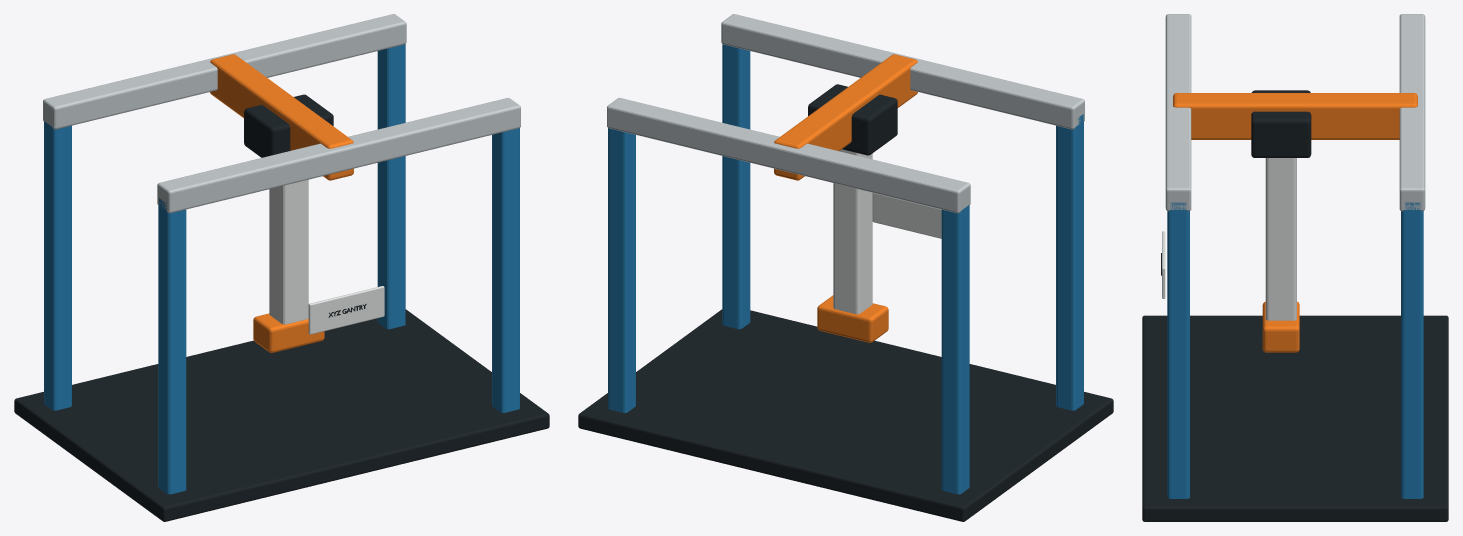
The model's file is xy_gantry.glb.
3 views of the same model, side by side, from view 1: azimuth 30°, elevation 25°; view 2: azimuth 150°, elevation 25°; view 3: azimuth 270°, elevation 25° (orthographic). The views are drawn at different scales.
Visible parts, largest first — view 1: BASE, X_RAIL_-0.82, X_RAIL_0.82, GANTRY_POST_-1.38_-0.82, GANTRY_POST_-1.38_0.82, GANTRY_POST_1.38_-0.82, GANTRY_POST_1.38_0.82, KIN_Z_AXIS, KIN_X_BRIDGE, NAMEPLATE, KIN_Y_CARRIAGE, GANTRY_GRIPPER; view 2: BASE, X_RAIL_0.82, X_RAIL_-0.82, GANTRY_POST_-1.38_0.82, GANTRY_POST_-1.38_-0.82, GANTRY_POST_1.38_0.82, GANTRY_POST_1.38_-0.82, KIN_X_BRIDGE, KIN_Z_AXIS, KIN_Y_CARRIAGE, GANTRY_GRIPPER, NAMEPLATE; view 3: BASE, KIN_X_BRIDGE, GANTRY_POST_1.38_-0.82, GANTRY_POST_1.38_0.82, KIN_Z_AXIS, X_RAIL_0.82, X_RAIL_-0.82, KIN_Y_CARRIAGE, GANTRY_GRIPPER.
Part boxes in pixels (x1=…): BASE: x1=14, y1=309, x2=549, y2=521; X_RAIL_-0.82: x1=157, y1=98, x2=520, y2=213; X_RAIL_0.82: x1=43, y1=14, x2=406, y2=129; GANTRY_POST_-1.38_-0.82: x1=158, y1=198, x2=186, y2=494; GANTRY_POST_-1.38_0.82: x1=44, y1=121, x2=71, y2=410; GANTRY_POST_1.38_-0.82: x1=492, y1=128, x2=519, y2=412; GANTRY_POST_1.38_0.82: x1=377, y1=44, x2=405, y2=329; KIN_Z_AXIS: x1=269, y1=179, x2=308, y2=324; KIN_X_BRIDGE: x1=210, y1=54, x2=353, y2=180; NAMEPLATE: x1=308, y1=286, x2=384, y2=334; KIN_Y_CARRIAGE: x1=244, y1=94, x2=333, y2=157; GANTRY_GRIPPER: x1=253, y1=313, x2=324, y2=352; BASE: x1=578, y1=309, x2=1113, y2=521; X_RAIL_0.82: x1=607, y1=98, x2=970, y2=213; X_RAIL_-0.82: x1=721, y1=14, x2=1084, y2=129; GANTRY_POST_-1.38_0.82: x1=941, y1=205, x2=969, y2=494; GANTRY_POST_-1.38_-0.82: x1=1056, y1=114, x2=1083, y2=410; GANTRY_POST_1.38_0.82: x1=608, y1=128, x2=635, y2=412; GANTRY_POST_1.38_-0.82: x1=722, y1=44, x2=750, y2=329; KIN_X_BRIDGE: x1=774, y1=54, x2=917, y2=180; KIN_Z_AXIS: x1=833, y1=149, x2=872, y2=314; KIN_Y_CARRIAGE: x1=808, y1=84, x2=897, y2=155; GANTRY_GRIPPER: x1=817, y1=295, x2=888, y2=342; NAMEPLATE: x1=872, y1=193, x2=941, y2=238; BASE: x1=1142, y1=315, x2=1448, y2=521; KIN_X_BRIDGE: x1=1173, y1=93, x2=1417, y2=139; GANTRY_POST_1.38_-0.82: x1=1167, y1=202, x2=1189, y2=498; GANTRY_POST_1.38_0.82: x1=1401, y1=202, x2=1423, y2=498; KIN_Z_AXIS: x1=1265, y1=158, x2=1296, y2=320; X_RAIL_0.82: x1=1399, y1=14, x2=1425, y2=211; X_RAIL_-0.82: x1=1165, y1=14, x2=1191, y2=211; KIN_Y_CARRIAGE: x1=1251, y1=90, x2=1311, y2=157; GANTRY_GRIPPER: x1=1262, y1=301, x2=1299, y2=352.
Size of the model in its own units: 3.2 by 2.54 by 2.15.
